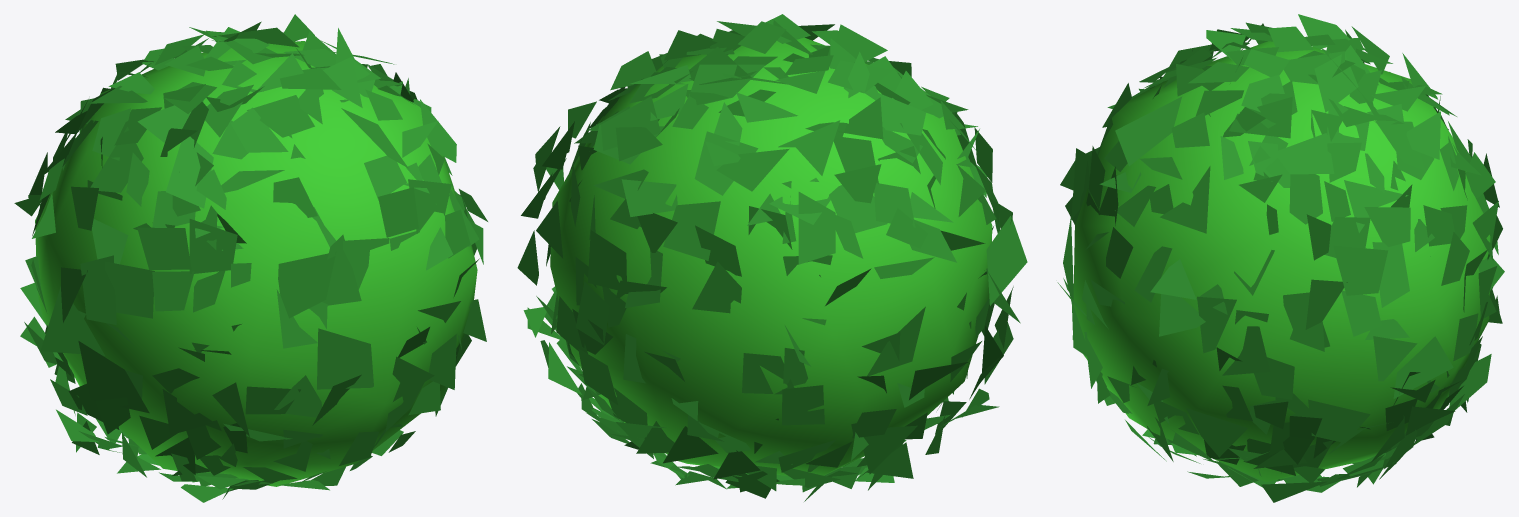
Rendered from Bush.fbx.
3 views of the same model, side by side, from view 1: azimuth 30°, elevation 25°; view 2: azimuth 150°, elevation 25°; view 3: azimuth 270°, elevation 25° (orthographic). The views are drawn at different scales.
Parts seen in each view (by area): view 1: BushLeaves, BushBase; view 2: BushLeaves, BushBase; view 3: BushLeaves, BushBase.
Boxes of the visible parts, x1,y1,x2,y2 form: BushLeaves: [14, 14, 487, 502]; BushBase: [35, 41, 477, 486]; BushLeaves: [517, 14, 1027, 501]; BushBase: [550, 37, 992, 475]; BushLeaves: [1057, 14, 1504, 502]; BushBase: [1072, 41, 1490, 481].
Bounding box in the file's own units: 198 × 185 × 176.
